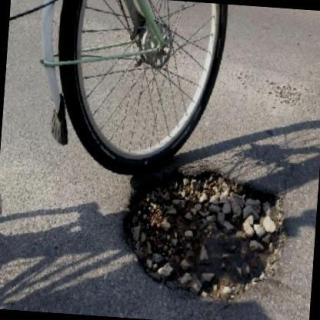pothole: (124, 174, 282, 301)
